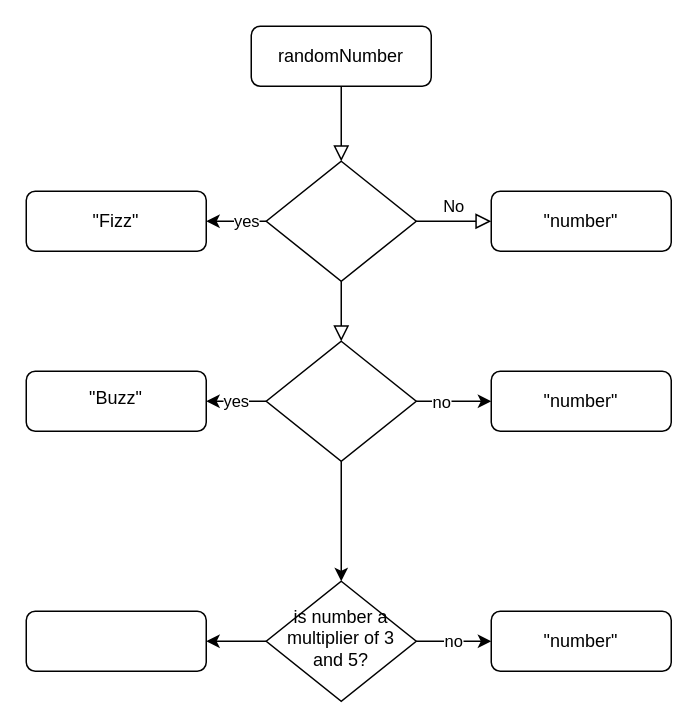
Some shapes in this 698 by 728 pixel diagram are drawn without their labels. Each missing label, with the centre of its shape:
"FizzBuzz": point (115, 640)
is number a multiplier of 5: point (340, 400)
is number a multiply of 3: point (340, 220)
